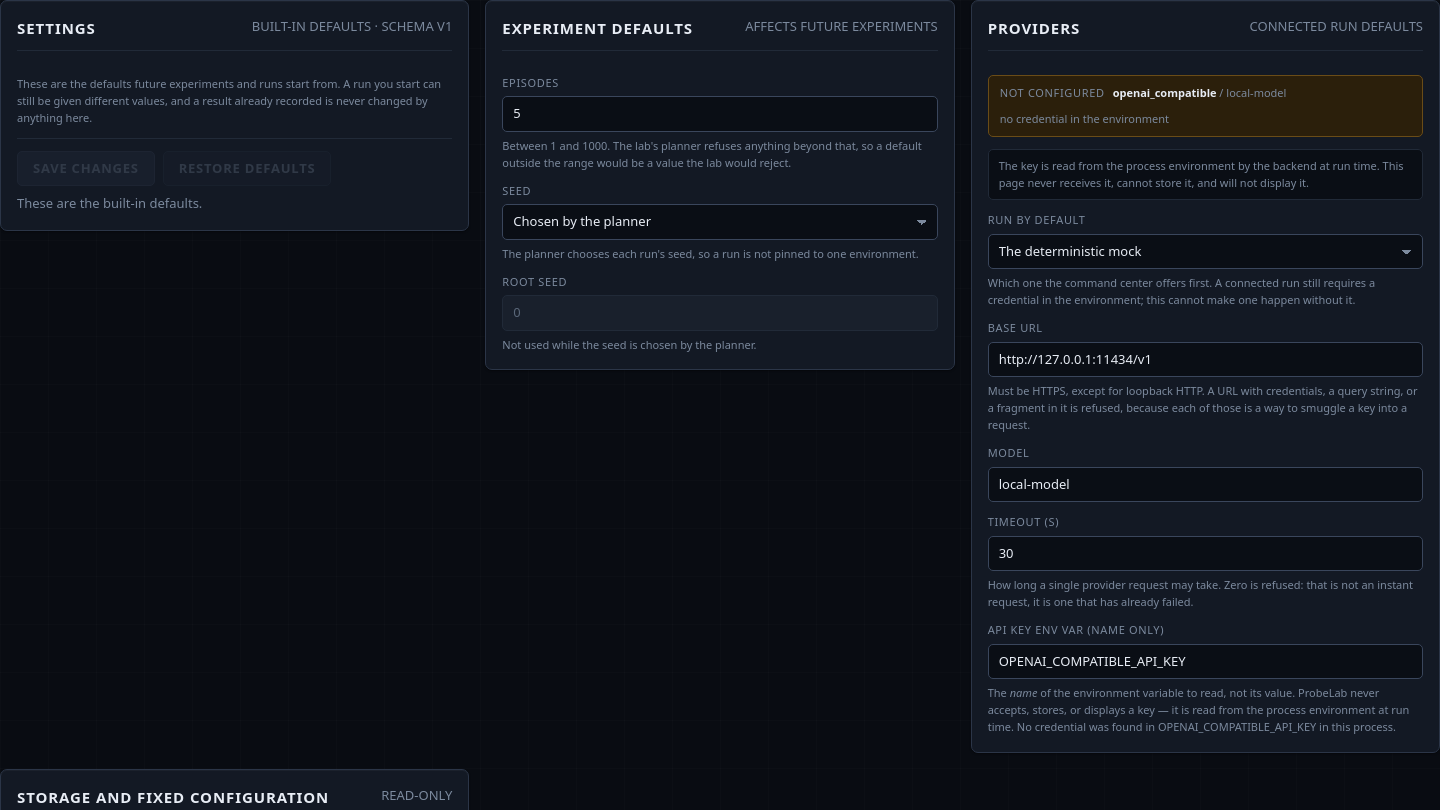
it: validation › keeps the edit after a rejection, so the fix is one edit away
Replace the text in the number field labelled "EPISODES" with "0" at [720, 114], box [502,96,938,132]
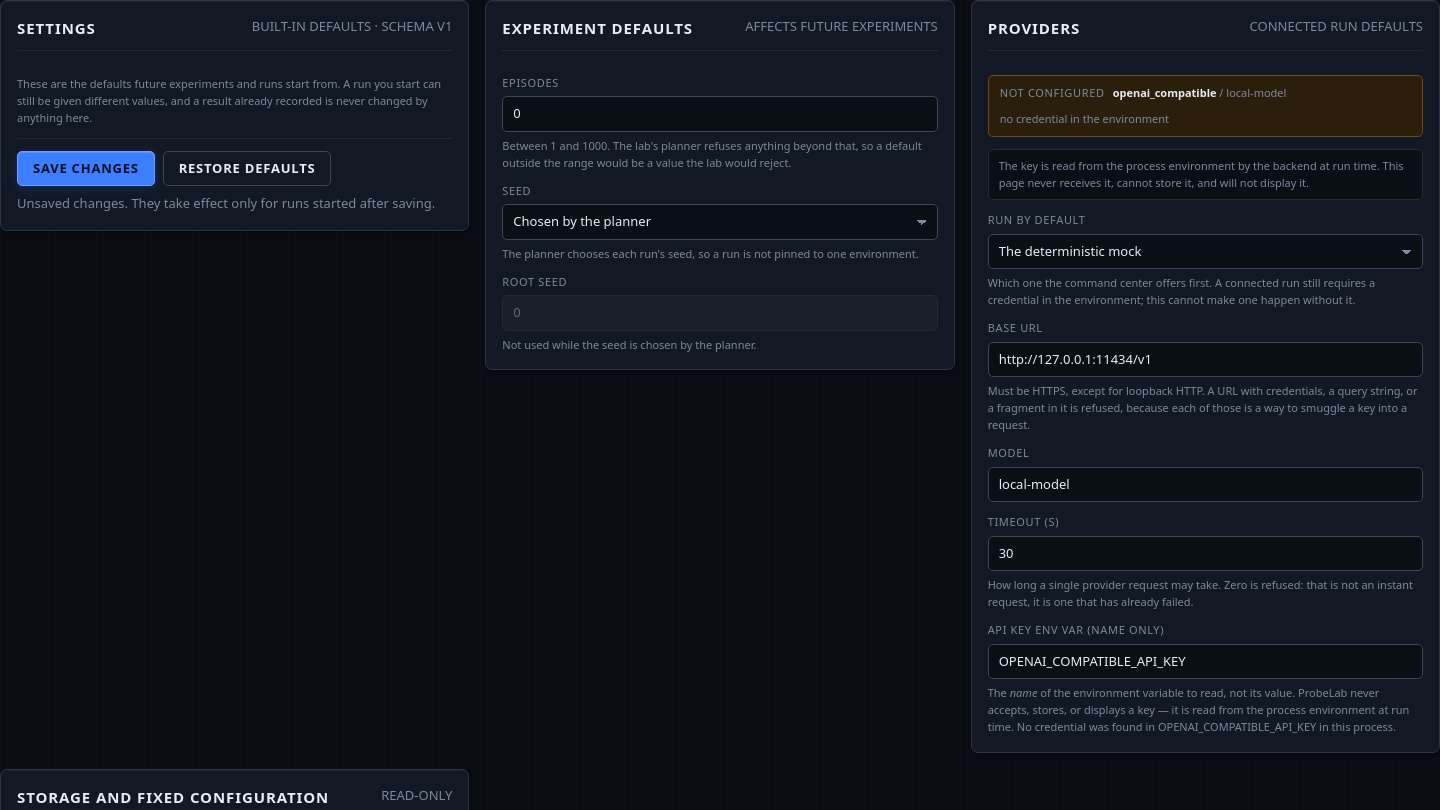
Click the button "SAVE CHANGES" at [86, 168], box [17,151,155,186]
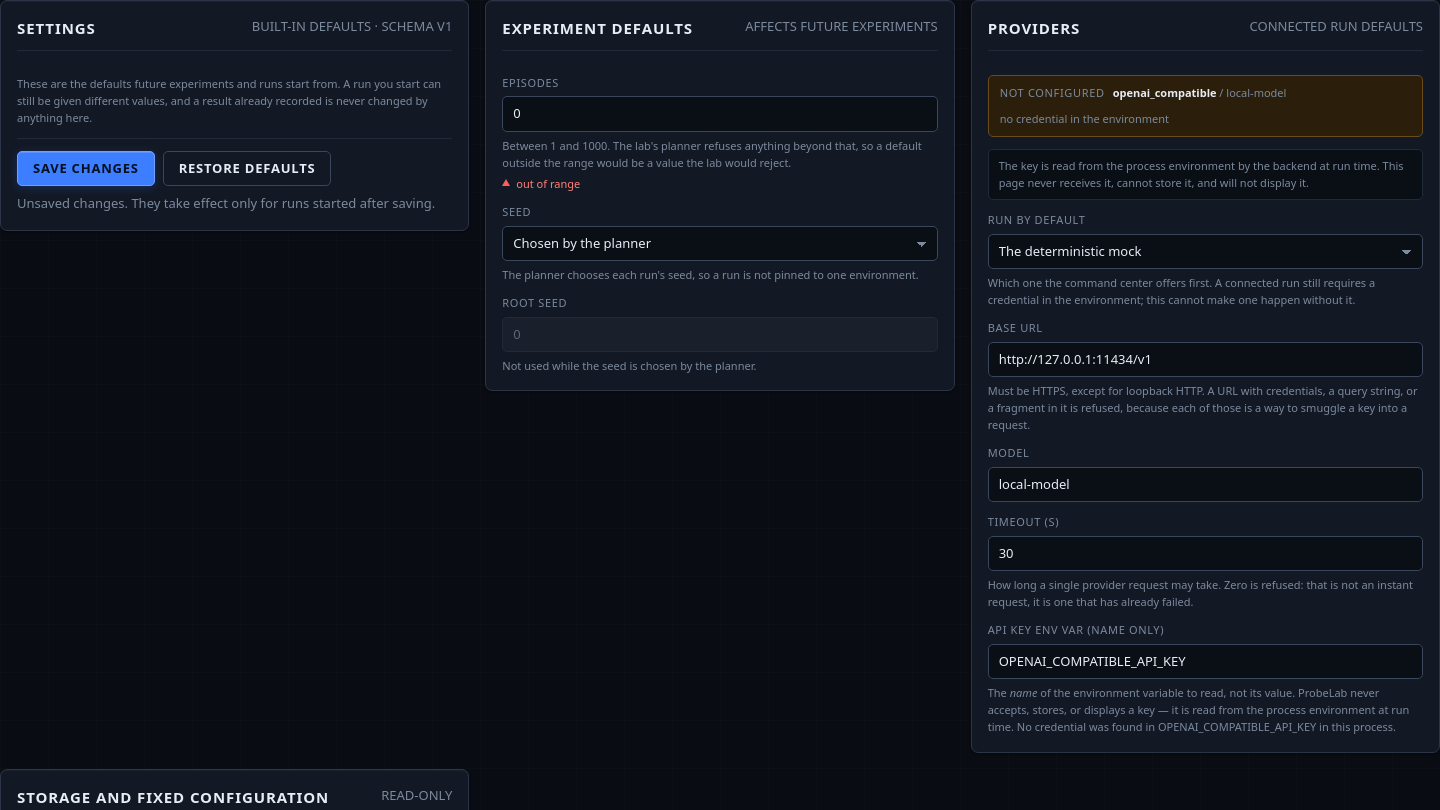
Check: the button "SAVE CHANGES" is enabled, box [17,151,155,186]
Check: the text "out of range" is shown, box [516,176,580,191]
